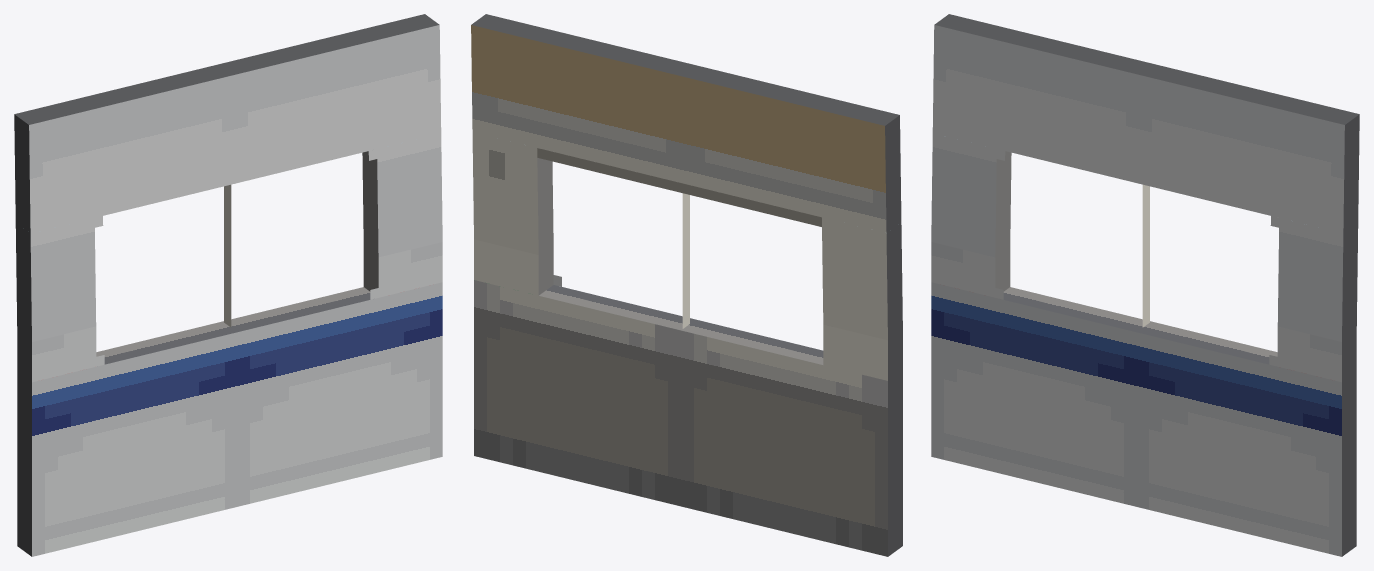
Rendered from crh2a_panel_wide_window.obj.
3 renders of one model, left to right at view 1: azimuth 30°, elevation 25°; view 2: azimuth 150°, elevation 25°; view 3: azimuth 330°, elevation 25°, orthographic.
Visible parts, largest first — view 1: cube, window_single, mesh; view 2: cube, window_single, mesh; view 3: cube, window_single, mesh.
Part boxes in pixels (bbox=[...]): cube: bbox=[14, 14, 442, 556]; window_single: bbox=[15, 133, 442, 382]; mesh: bbox=[224, 184, 231, 327]; cube: bbox=[471, 14, 902, 556]; window_single: bbox=[472, 132, 902, 380]; mesh: bbox=[682, 193, 689, 328]; cube: bbox=[931, 14, 1359, 556]; window_single: bbox=[931, 133, 1358, 382]; mesh: bbox=[1142, 184, 1149, 327].
Size of the model in its own units: 2 by 2 by 0.15.
